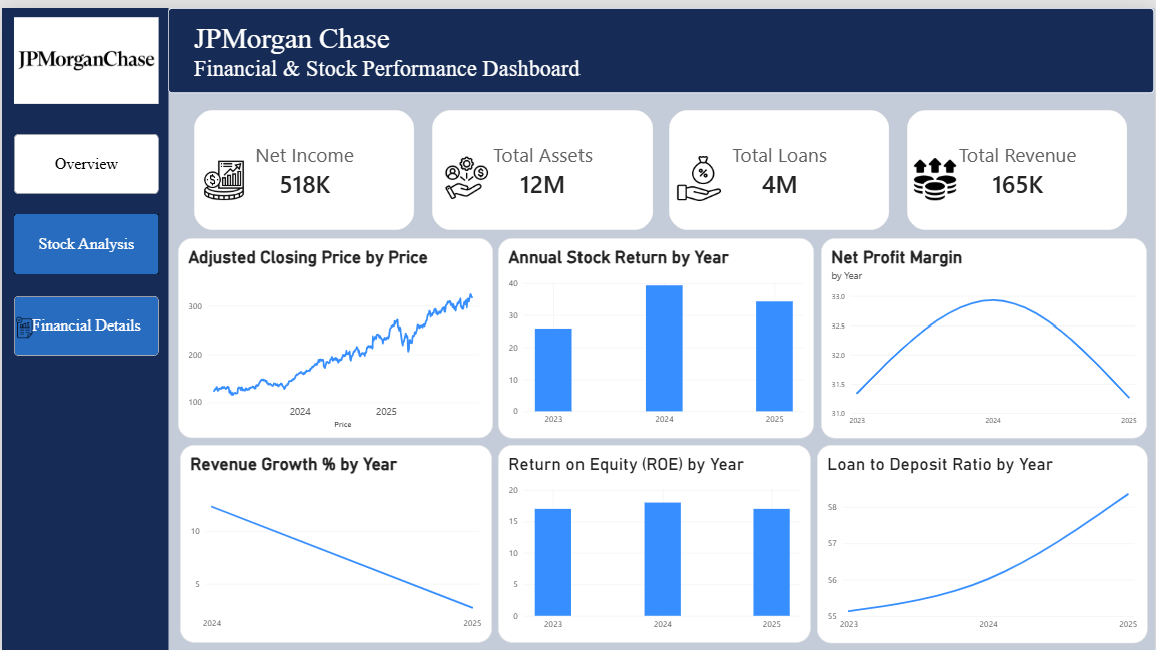

The page's visual inventory and layout, read from the dashboard file:
{"tool":"powerbi","page":{"name":"Page 1","canvas":[1920,1080],"ordinal":0},"visuals":[{"type":"shape","box":[0,0,277.6,1084.1],"z":0},{"type":"cardVisual","fields":{"Data":["Sum(jpm_financial_data.Revenue)"]},"box":[320.2,170.2,367.9,200],"z":0,"group":"g3"},{"type":"clusteredColumnChart","fields":{"Category":["jpm_stock_data.Year"],"Y":["jpm_stock_data.Annual Stock Return"]},"box":[828.1,383,525,332.3],"z":0,"group":"g1"},{"type":"lineChart","fields":{"Category":["jpm_financial_data.Year"],"Y":["jpm_financial_data.Loan to Deposit Ratio"]},"box":[1357.6,726.8,551.1,330.3],"z":0,"group":"g4"},{"type":"shape","box":[278,0,1642,141.9],"z":1000},{"type":"actionButton","box":[20.5,209.3,241.1,100.1],"z":1000,"group":"g5"},{"type":"lineChart","fields":{"Category":["jpm_financial_data.Year"],"Y":["jpm_financial_data.Net Profit Margin"]},"box":[1364.1,383.1,543,332.3],"z":1000,"group":"g1"},{"type":"lineChart","fields":{"Category":["jpm_financial_data.Year"],"Y":["jpm_financial_data.Revenue Growth %"]},"box":[297.6,727.7,519.9,329.3],"z":1000,"group":"g4"},{"type":"textbox","box":[320.8,22.7,1599.2,118.3],"z":2000},{"type":"cardVisual","fields":{"Data":["Sum(jpm_financial_data.Net_Income)"]},"box":[1506.9,170.2,367,200],"z":2000,"group":"g3"},{"type":"lineChart","fields":{"Category":["jpm_stock_data.Price"],"Y":["Sum(jpm_stock_data.Adj Close)"]},"box":[293.8,383,525,332],"z":2000,"group":"g1"},{"type":"clusteredColumnChart","fields":{"Category":["jpm_financial_data.Year"],"Y":["Avg(jpm_financial_data.ROE)"]},"box":[828.9,728.3,519.7,329.6],"z":2000,"group":"g4"},{"type":"actionButton","box":[20.5,343.5,241.1,100.1],"z":3000,"group":"g5"},{"type":"group","id":"g1","title":"Group 3","box":[293.8,383,1613.3,332.4],"z":3000},{"type":"cardVisual","fields":{"Data":["Sum(jpm_financial_data.Total_Assets)"]},"box":[716.3,170.2,367,200],"z":4000,"group":"g3"},{"type":"group","id":"g2","title":"Group 2","box":[31.2,235.8,1877.6,822.2],"z":4000},{"type":"group","id":"g3","title":"Group 4","box":[320.2,170.2,1554.1,200.6],"z":5000},{"type":"actionButton","box":[20.5,480,241.1,97.8],"z":5000,"group":"g5"},{"type":"image","box":[20.5,2.3,241.1,168.3],"z":6000},{"type":"cardVisual","fields":{"Data":["Sum(jpm_financial_data.Loans)"]},"box":[1111.6,170.2,367,200],"z":6000,"group":"g3"},{"type":"image","box":[718.9,248,109.2,72.8],"z":7000},{"type":"group","id":"g4","title":"Group 5","box":[297.6,726.8,1611.2,331.2],"z":7001,"group":"g2"},{"type":"image","box":[1506,250.2,93.3,70.5],"z":8000},{"type":"image","box":[1096.5,248,127.4,75.1],"z":9000},{"type":"image","box":[320.8,252.5,100.1,68.2],"z":10000},{"type":"image","box":[0,364,81.9,52.3],"z":11000},{"type":"image","box":[31.2,235.8,50,47.8],"z":11001,"group":"g2"},{"type":"group","id":"g5","title":"Group 1","box":[20.5,209.3,241.1,368.5],"z":12000},{"type":"image","box":[20.5,505,34.1,50],"z":13002,"group":"g5"}]}

Visuals, with their boxes in screenshot pixels (x1, y1, x2, y2), scaled from the page's 1920x1080 canvas onto the 1156x650 screenshot:
shape: box=[0, 0, 167, 649]
cardVisual - Sum(jpm_financial_data.Revenue): box=[193, 102, 414, 223]
clusteredColumnChart - jpm_stock_data.Year x jpm_stock_data.Annual Stock Return: box=[499, 231, 815, 431]
lineChart - jpm_financial_data.Year x jpm_financial_data.Loan to Deposit Ratio: box=[817, 437, 1149, 636]
shape: box=[167, 0, 1155, 85]
actionButton: box=[12, 126, 158, 186]
lineChart - jpm_financial_data.Year x jpm_financial_data.Net Profit Margin: box=[821, 231, 1148, 431]
lineChart - jpm_financial_data.Year x jpm_financial_data.Revenue Growth %: box=[179, 438, 492, 636]
textbox: box=[193, 14, 1155, 85]
cardVisual - Sum(jpm_financial_data.Net_Income): box=[907, 102, 1128, 223]
lineChart - jpm_stock_data.Price x Sum(jpm_stock_data.Adj Close): box=[177, 231, 493, 430]
clusteredColumnChart - jpm_financial_data.Year x Avg(jpm_financial_data.ROE): box=[499, 438, 812, 637]
actionButton: box=[12, 207, 158, 267]
"Group 3" group: box=[177, 231, 1148, 431]
cardVisual - Sum(jpm_financial_data.Total_Assets): box=[431, 102, 652, 223]
"Group 2" group: box=[19, 142, 1149, 637]
"Group 4" group: box=[193, 102, 1128, 223]
actionButton: box=[12, 289, 158, 348]
image: box=[12, 1, 158, 103]
cardVisual - Sum(jpm_financial_data.Loans): box=[669, 102, 890, 223]
image: box=[433, 149, 499, 193]
"Group 5" group: box=[179, 437, 1149, 637]
image: box=[907, 151, 963, 193]
image: box=[660, 149, 737, 194]
image: box=[193, 152, 253, 193]
image: box=[0, 219, 49, 251]
image: box=[19, 142, 49, 171]
"Group 1" group: box=[12, 126, 158, 348]
image: box=[12, 304, 33, 334]
